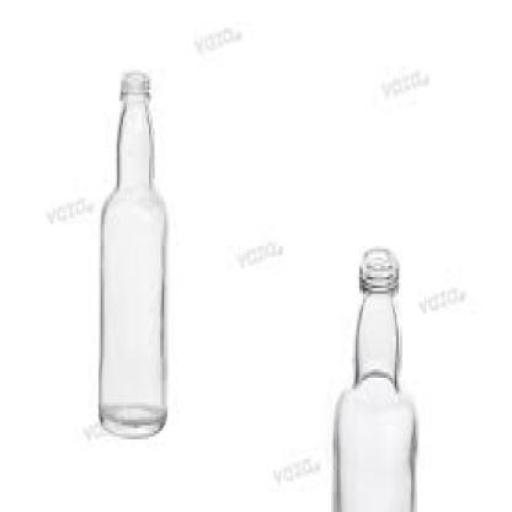glass: (99, 70, 166, 436), (331, 246, 417, 510)
